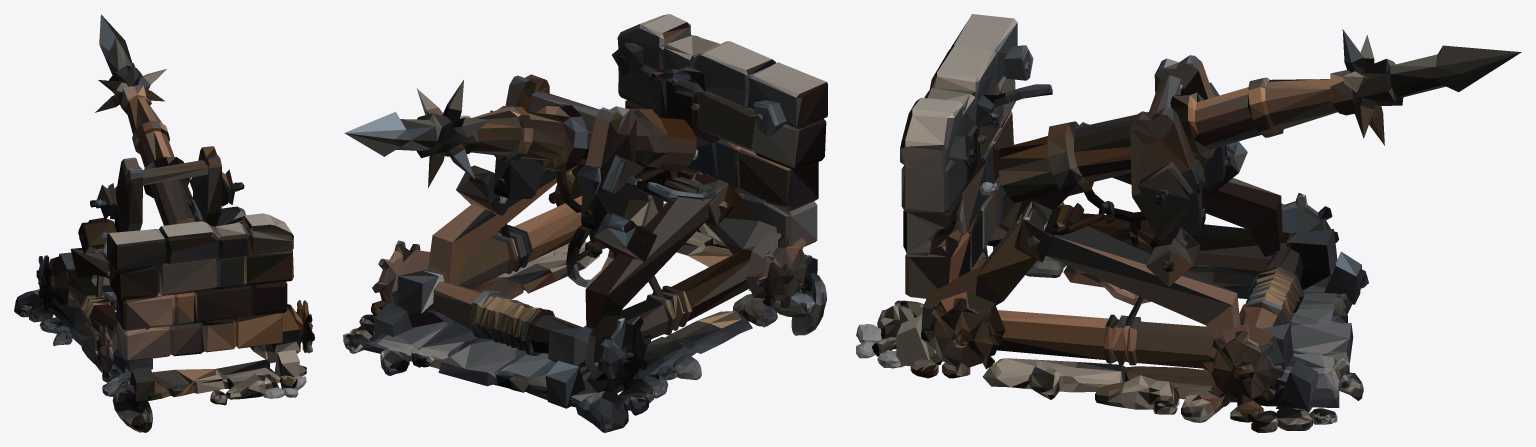
The model's file is Ballista.glb.
3 renders of one model, left to right at view 1: azimuth 30°, elevation 25°; view 2: azimuth 150°, elevation 25°; view 3: azimuth 270°, elevation 25°, orthographic. The views are drawn at different scales.
Visible parts, largest first — view 1: world; view 2: world; view 3: world.
Boxes of the visible parts, x1,y1,x2,y2 form: world: [14, 14, 314, 432]; world: [343, 14, 827, 432]; world: [856, 14, 1521, 432].
Size of the model in its own units: 0.4629 by 0.459 by 0.7402.
